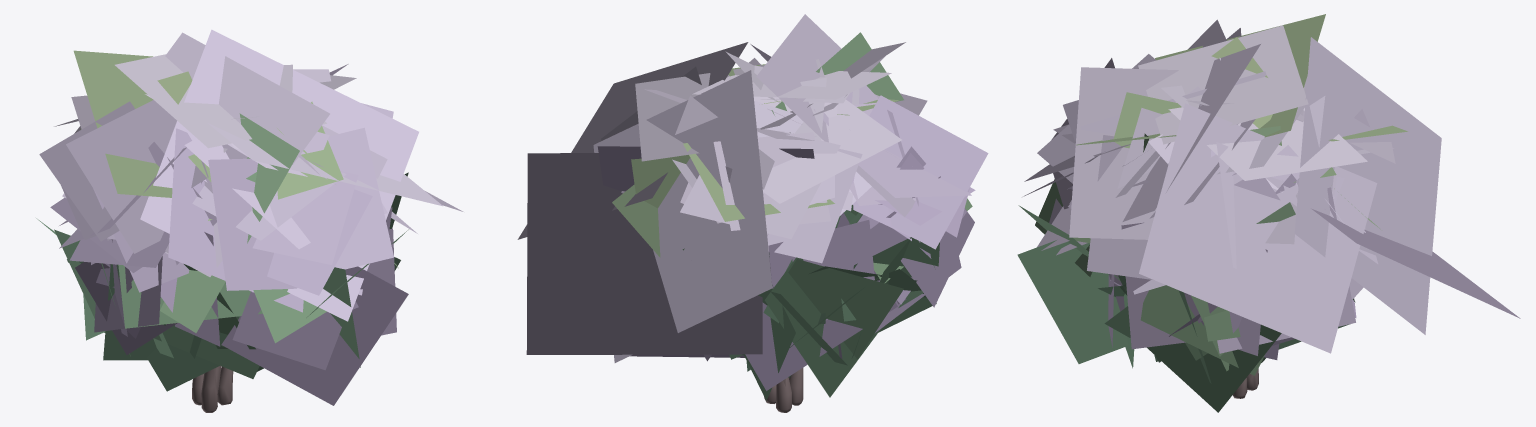
The model's file is lilac_tree_v0.glb.
3 renders of one model, left to right at view 1: azimuth 30°, elevation 25°; view 2: azimuth 150°, elevation 25°; view 3: azimuth 270°, elevation 25°, orthographic. The views are drawn at different scales.
Parts seen in each view (by area): view 1: near, far; view 2: far, near; view 3: far, near.
Boxes of the visible parts, x1=… form: near: x1=36, y1=64, x2=408, y2=412; far: x1=59, y1=29, x2=463, y2=393; far: x1=517, y1=14, x2=972, y2=386; near: x1=601, y1=44, x2=988, y2=412; far: x1=1037, y1=14, x2=1520, y2=353; near: x1=1017, y1=19, x2=1407, y2=412.
Bounding box in the file's own units: 8.62 × 7.63 × 9.85.
